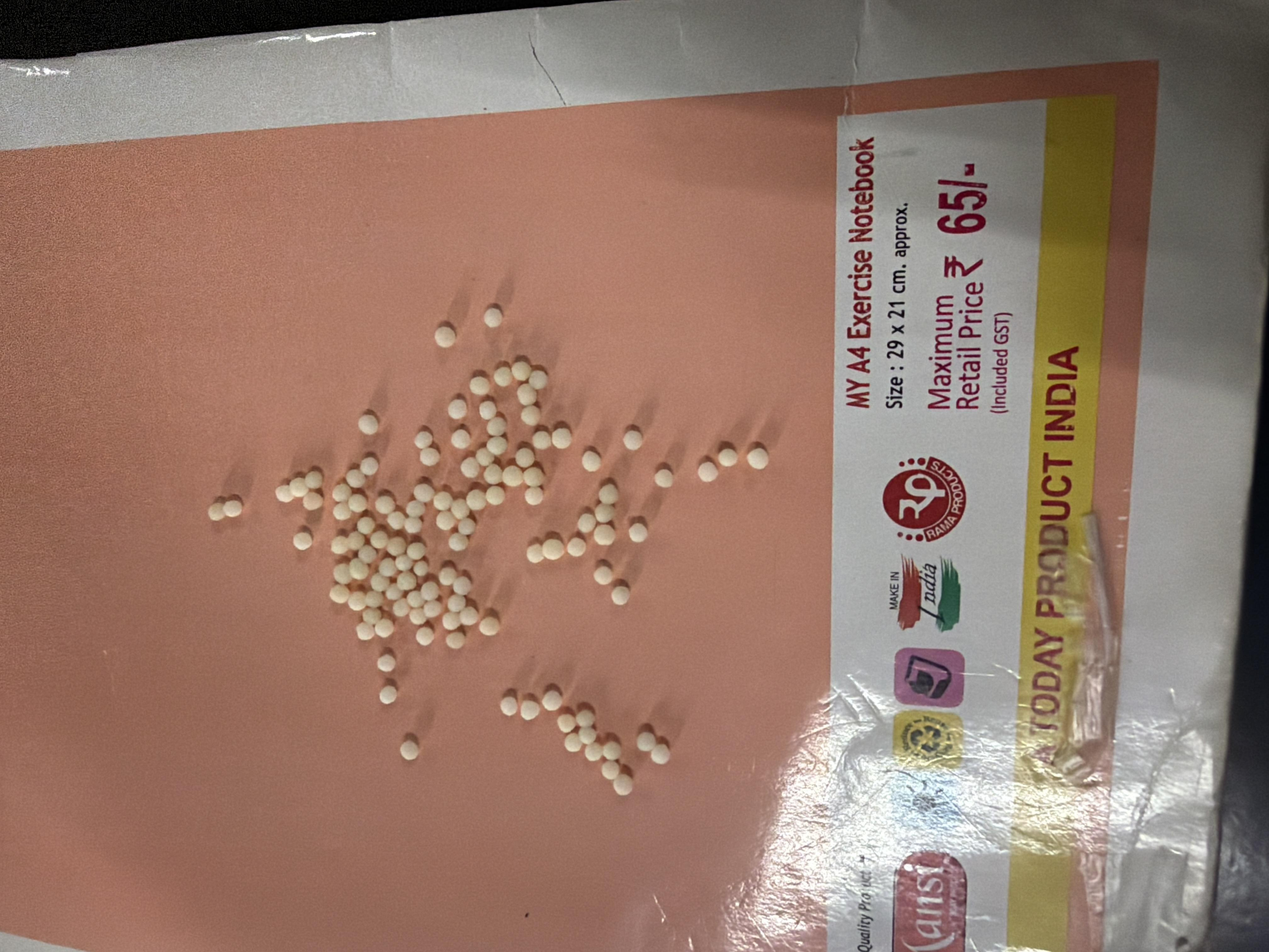pill: (526, 542, 554, 565), (614, 426, 641, 447), (293, 526, 320, 547), (445, 398, 469, 419), (511, 354, 528, 382), (611, 576, 630, 601), (448, 533, 473, 550), (523, 485, 545, 503), (512, 387, 535, 404), (489, 696, 509, 715), (444, 636, 471, 650), (593, 565, 615, 582), (558, 735, 584, 749), (403, 741, 422, 760), (581, 451, 602, 468), (378, 689, 397, 707), (570, 535, 587, 555), (436, 321, 450, 345), (453, 457, 477, 471), (460, 608, 481, 624), (329, 536, 347, 554), (482, 302, 499, 321), (596, 501, 615, 518), (612, 769, 629, 788), (345, 472, 368, 486), (347, 560, 367, 576), (467, 376, 484, 393), (208, 504, 226, 520), (378, 558, 394, 576), (552, 427, 567, 446), (696, 463, 716, 477), (600, 485, 620, 499), (496, 365, 509, 386), (489, 438, 506, 454), (750, 451, 766, 468), (483, 617, 500, 633), (382, 648, 397, 666), (359, 418, 378, 432), (655, 469, 669, 487), (366, 589, 384, 603), (396, 574, 414, 588), (581, 727, 599, 741), (630, 526, 650, 538), (552, 538, 564, 558), (354, 621, 368, 638), (310, 493, 323, 511), (539, 694, 557, 707), (528, 365, 540, 384), (520, 473, 545, 482), (338, 502, 353, 517), (445, 612, 460, 627), (504, 466, 518, 482), (600, 524, 616, 538), (349, 532, 363, 548), (362, 548, 378, 562), (423, 580, 437, 596), (412, 626, 428, 640), (424, 604, 444, 615), (574, 710, 594, 721), (412, 434, 430, 446), (456, 433, 471, 447), (454, 499, 468, 514), (438, 513, 453, 527), (338, 561, 352, 576), (388, 579, 402, 594), (519, 705, 533, 720), (635, 734, 649, 749), (599, 759, 618, 770), (535, 430, 548, 446), (517, 452, 533, 465), (482, 404, 499, 416), (471, 489, 483, 506), (408, 609, 426, 620), (580, 513, 595, 526), (523, 403, 535, 419), (358, 519, 374, 531), (413, 563, 429, 575), (451, 593, 463, 609), (555, 716, 571, 728), (421, 452, 438, 463), (406, 592, 423, 603), (487, 466, 500, 480), (408, 514, 421, 528), (369, 589, 382, 603), (586, 743, 600, 756), (477, 447, 489, 462), (435, 491, 450, 503), (438, 570, 457, 579), (377, 622, 394, 632), (309, 471, 322, 484), (350, 563, 363, 576), (349, 590, 361, 604), (654, 747, 666, 761), (226, 498, 237, 513), (485, 490, 500, 501), (454, 577, 469, 588), (606, 740, 621, 751), (397, 555, 413, 565), (275, 485, 287, 498), (333, 484, 346, 496), (373, 575, 386, 587), (397, 602, 409, 615), (373, 498, 387, 509), (518, 445, 530, 457), (365, 458, 376, 471), (328, 583, 341, 594), (389, 513, 400, 525), (291, 478, 301, 491), (722, 453, 733, 464), (459, 522, 474, 530), (368, 609, 380, 619), (406, 503, 419, 512), (356, 499, 365, 509), (375, 531, 385, 540), (388, 543, 398, 551), (495, 420, 502, 431), (412, 545, 421, 553), (448, 598, 458, 604), (396, 557, 403, 563), (417, 567, 423, 573)
